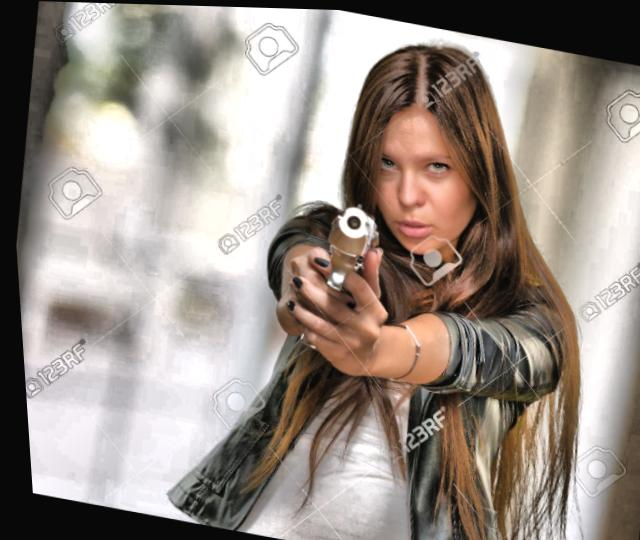pistol: (272, 170, 390, 366)
